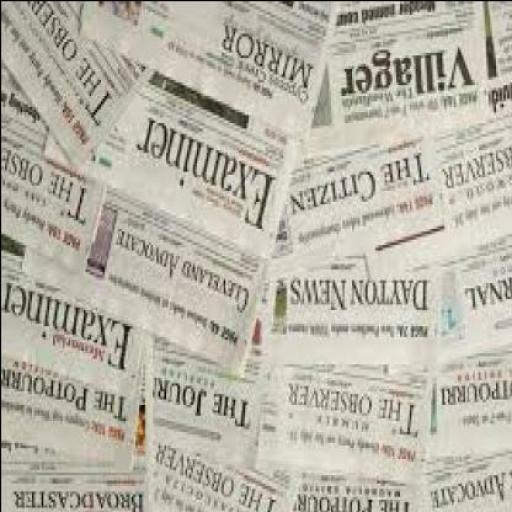paper: (1, 1, 511, 511), (42, 54, 303, 264), (23, 176, 270, 379), (80, 2, 340, 144), (299, 2, 491, 162), (2, 2, 157, 168), (2, 342, 152, 512), (1, 238, 144, 401), (2, 74, 108, 276), (291, 141, 449, 263), (267, 374, 437, 485), (269, 263, 439, 371), (154, 334, 266, 476), (2, 371, 142, 472), (440, 132, 510, 263), (149, 450, 292, 511), (439, 255, 511, 367), (437, 368, 511, 455), (294, 477, 435, 511), (434, 454, 511, 511), (491, 2, 511, 128)
